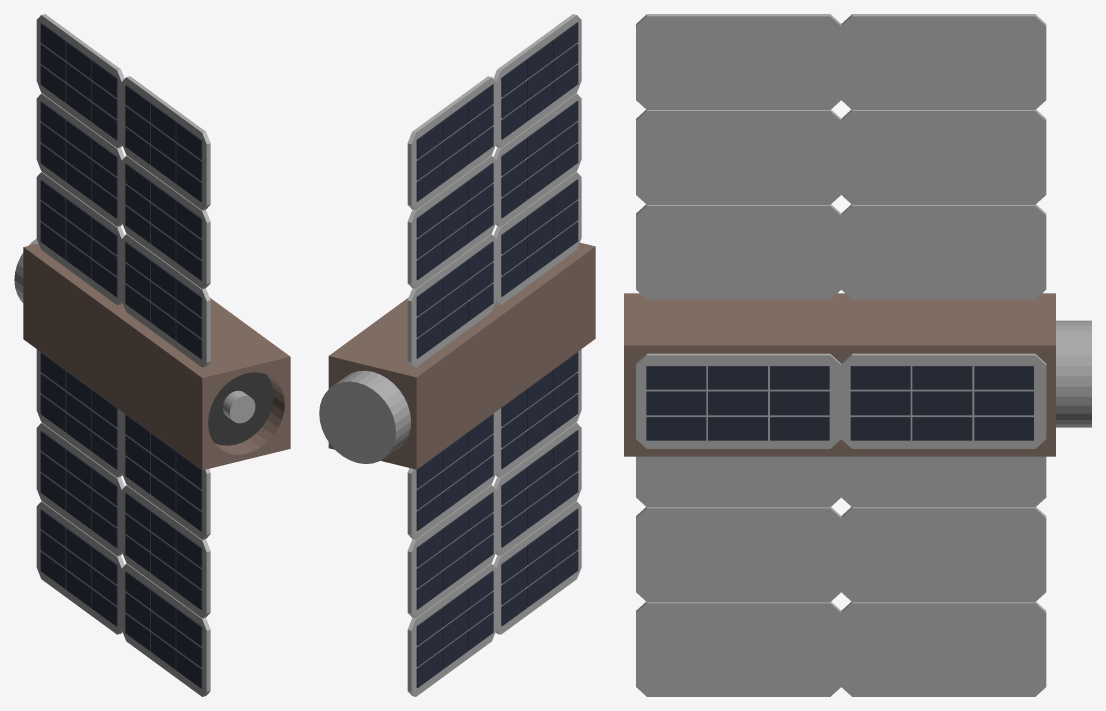
Rendered from flock_high.gltf.
The picture shows the model from 3 angles, left to right: view 1: azimuth 30°, elevation 25°; view 2: azimuth 150°, elevation 25°; view 3: azimuth 270°, elevation 25°; orthographic projection. The views are drawn at different scales.
Parts seen in each view (by area): view 1: Cube, Cube.007, Cube.006, Cube.003, Cube.004, Cube.001, Cube.005, Cylinder, Cylinder.001; view 2: Cube, Cube.007, Cube.001, Cube.003, Cube.006, Cube.004, Cube.005, Cylinder.002; view 3: Cube.007, Cube.001, Cube.002, Cube.004, Cube.006, Cube.003, Cube, Cube.005, Cylinder.002.
Part boxes in pixels (x1,y1,x2,y2): Cube: (23,243,290,470); Cube.007: (36,14,210,210); Cube.006: (36,93,210,288); Cube.003: (36,501,210,696); Cube.004: (36,172,210,367); Cube.001: (36,423,210,618); Cube.005: (36,349,210,539); Cylinder: (208,372,273,445); Cylinder.001: (222,390,255,423); Cube: (328,242,595,469); Cube.007: (407,14,581,210); Cube.001: (407,422,581,618); Cube.003: (407,501,581,696); Cube.006: (407,93,581,288); Cube.004: (407,172,581,367); Cube.005: (407,349,581,539); Cylinder.002: (319,370,410,463); Cube.007: (636,14,1046,109); Cube.001: (636,507,1046,602); Cube.002: (636,353,1046,448); Cube.004: (636,204,1046,299); Cube.006: (636,109,1046,204); Cube.003: (636,601,1046,696); Cube: (624,293,1055,456); Cube.005: (636,456,1046,507); Cylinder.002: (1056,320,1091,427).
Bounding box in the file's own units: 1.64 × 9.63 × 6.
